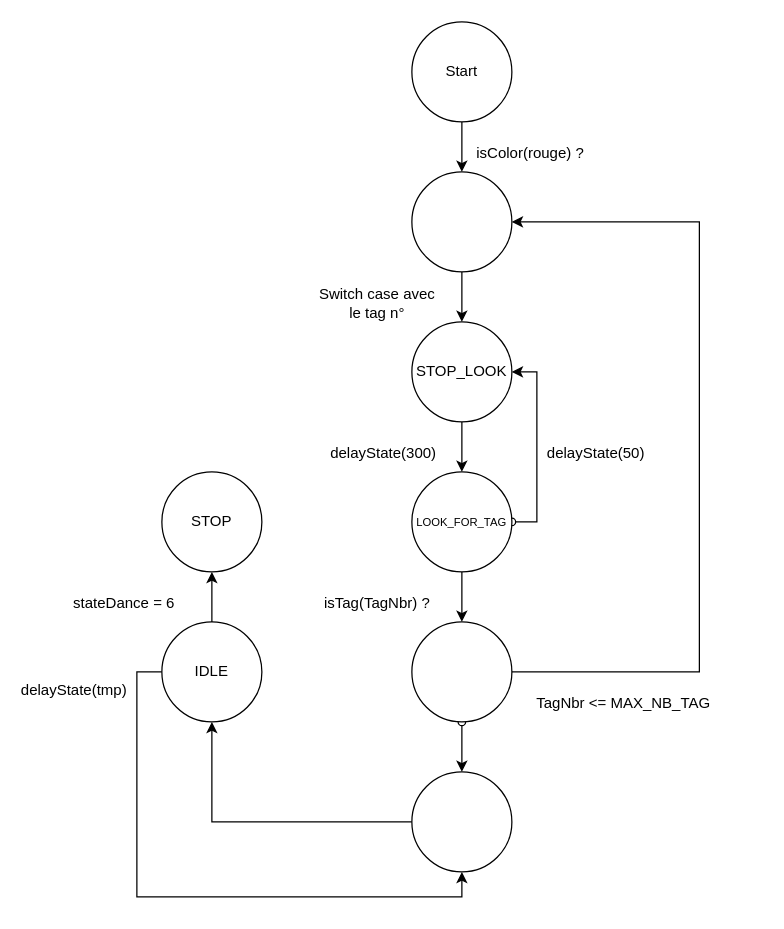
Image size: 784x929. Some labels were removed from this diagram. Here are the shapes that lost their labels. From the top down, the centre of each, then its label:
the point at 461,221: Tag*
the point at 461,671: FOLLOW_TAG
the point at 461,821: VICTORY_DANCE
